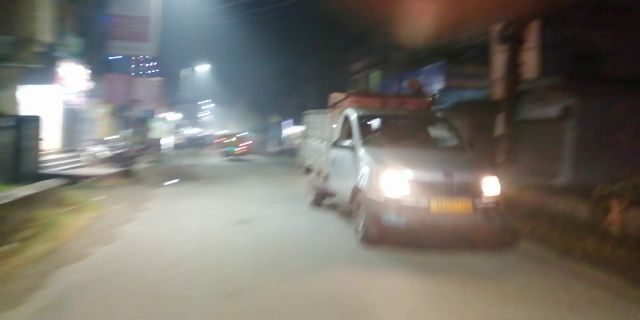Minitruck: (297, 89, 515, 251)
